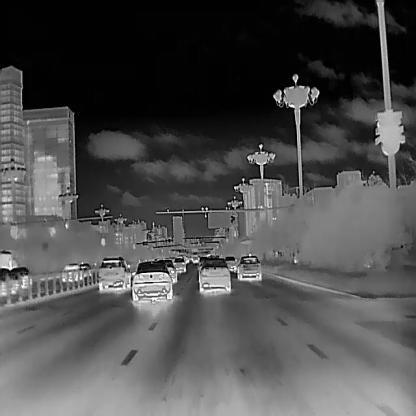car: (131, 258, 172, 303), (198, 255, 230, 293), (98, 256, 130, 290), (236, 255, 261, 280), (10, 267, 32, 290), (1, 267, 14, 293), (162, 258, 175, 283), (62, 262, 79, 280), (77, 264, 93, 280), (173, 255, 186, 272), (224, 254, 236, 272)
